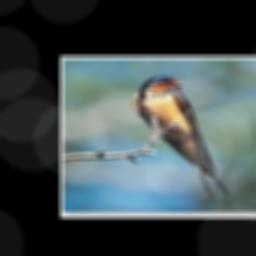Swallow: (133, 76, 230, 199)
